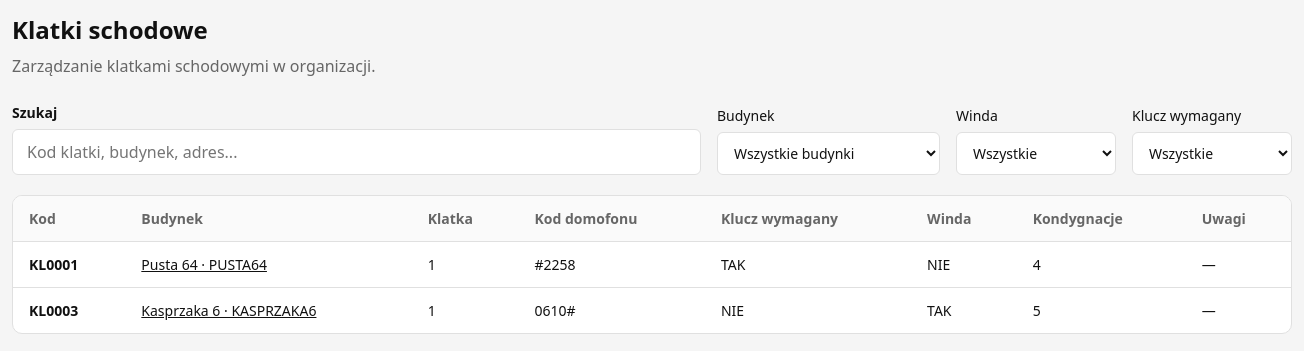
Scenario: StaircasesPage › filters by search query across building code
Check: the text "KL0001" is shown, box [13,242,125,288]
Type "PUSTA64" into the field labelled "Szukaj".
click(356, 152); type("PUSTA64")  # box [12,129,701,175]
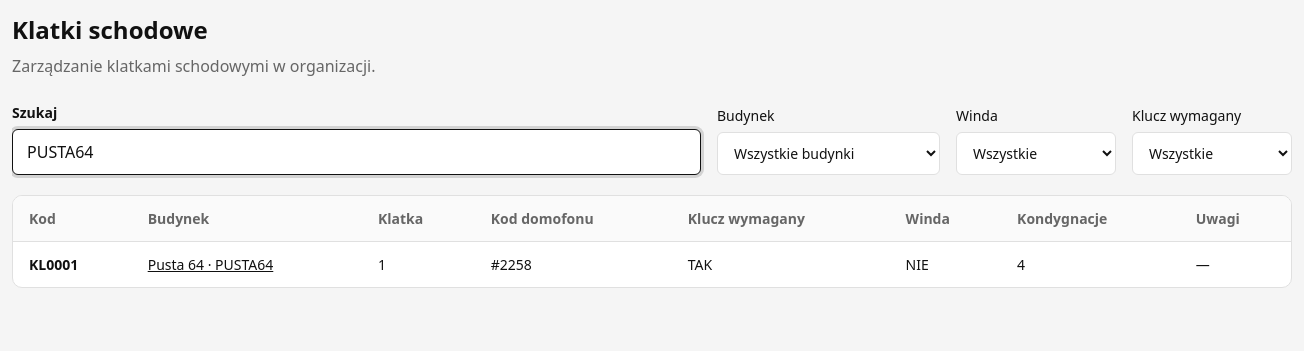
Check: the text "KL0001" is shown, box [13,242,132,287]
Check: the text "KL0003" is gone
